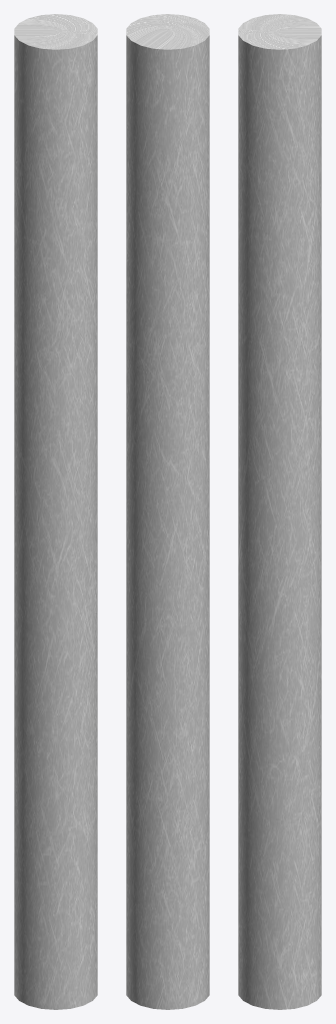
The model's file is torsoslidertextured.dae.
The picture shows the model from 3 angles, left to right: view 1: azimuth 90°, elevation 25°; view 2: azimuth 150°, elevation 25°; view 3: azimuth 270°, elevation 25°; orthographic projection.
Visible parts, largest first — view 1: Cylinder01; view 2: Cylinder01; view 3: Cylinder01.
Part boxes in pixels (box(x1,y1,x2,y2)): Cylinder01: box(14, 14, 97, 1009); Cylinder01: box(126, 14, 209, 1009); Cylinder01: box(238, 14, 321, 1009).
Size of the model in its own units: 12.19 by 152 by 12.01.
Materials: 1 (1 with a texture image).
